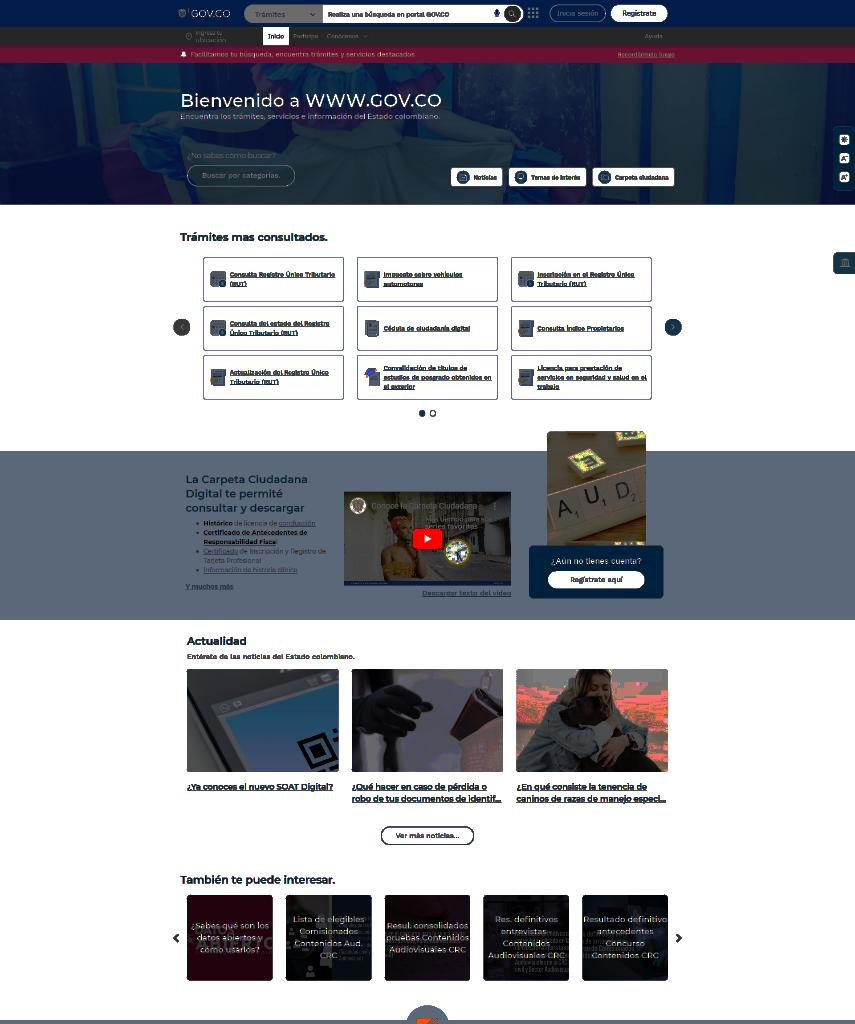barra accesibilidad: (833, 126, 855, 190)
barra govco: (178, 1, 672, 27)
btn buscador: (243, 4, 525, 24)
btn inicio: (264, 31, 285, 43)
btn inicio sesion: (551, 3, 605, 23)
btn noticias: (380, 826, 476, 846), (470, 166, 503, 188)
btn participa: (292, 31, 320, 43)
btn registro: (546, 570, 646, 590), (611, 4, 669, 24)
logogovco: (178, 6, 232, 22)
